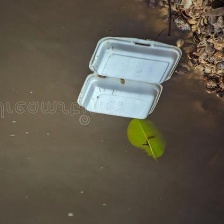foam_box: (73, 32, 185, 123)
